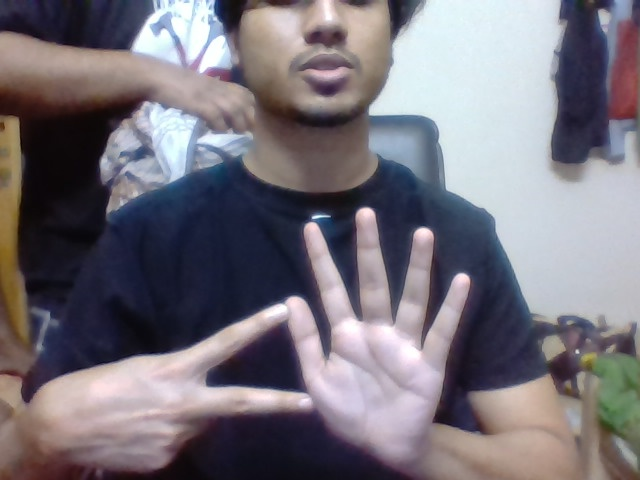N: (196, 297, 287, 421)
